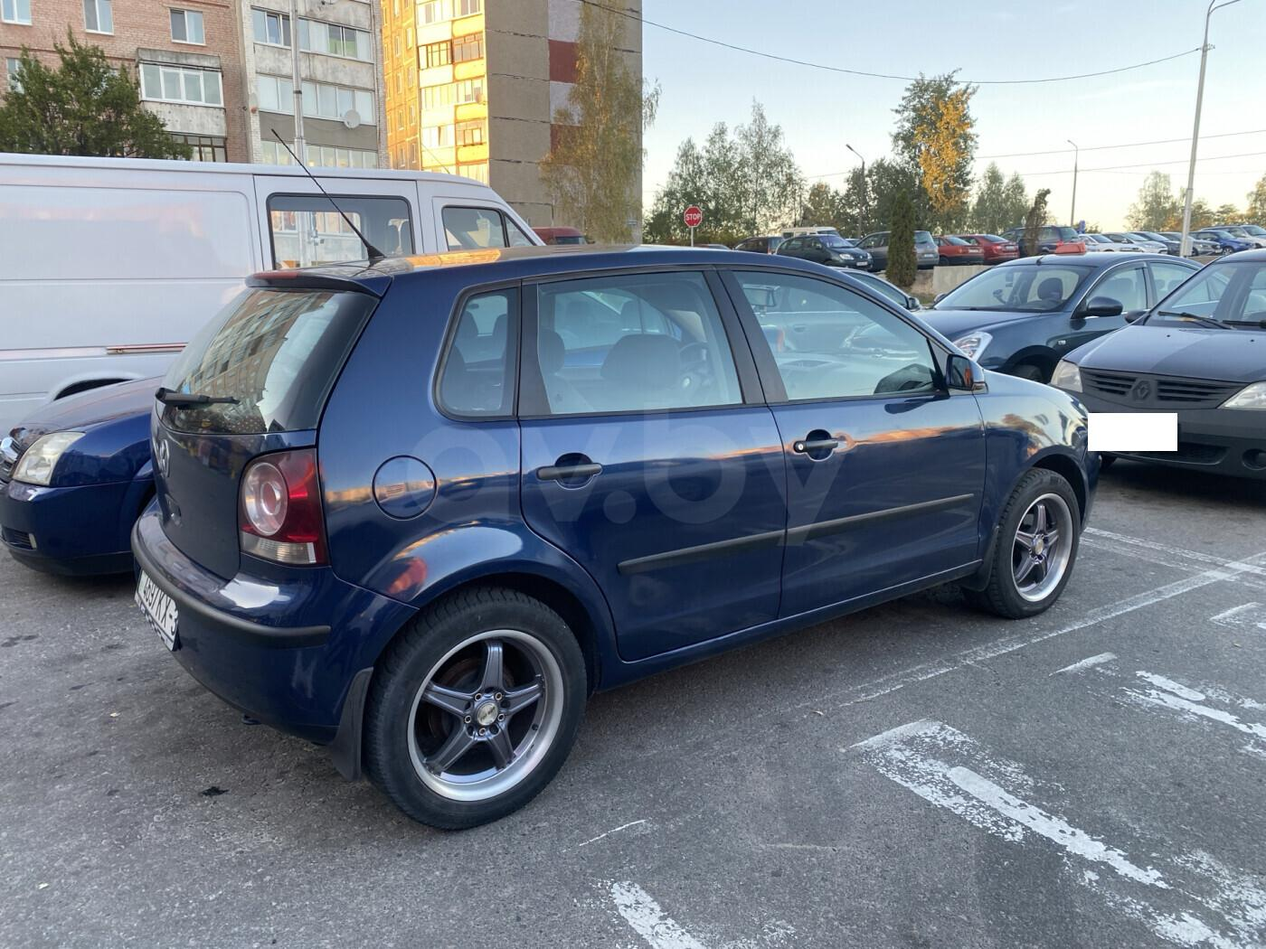Polo_2005-2009: (123, 243, 1097, 817)
